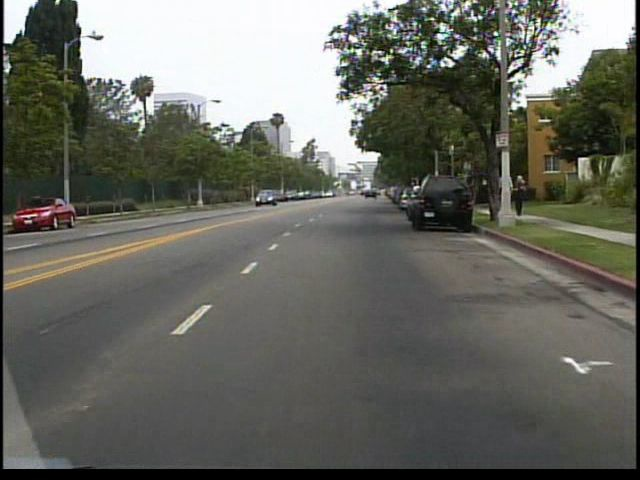person: (512, 171, 530, 218), (498, 165, 514, 214)
